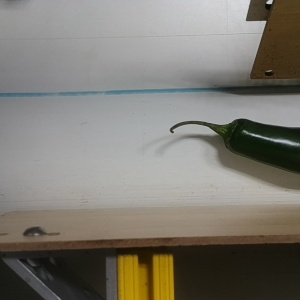Cut Point: (213, 117, 251, 154)
